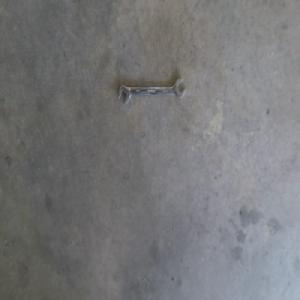Wrench: (117, 77, 187, 106)
